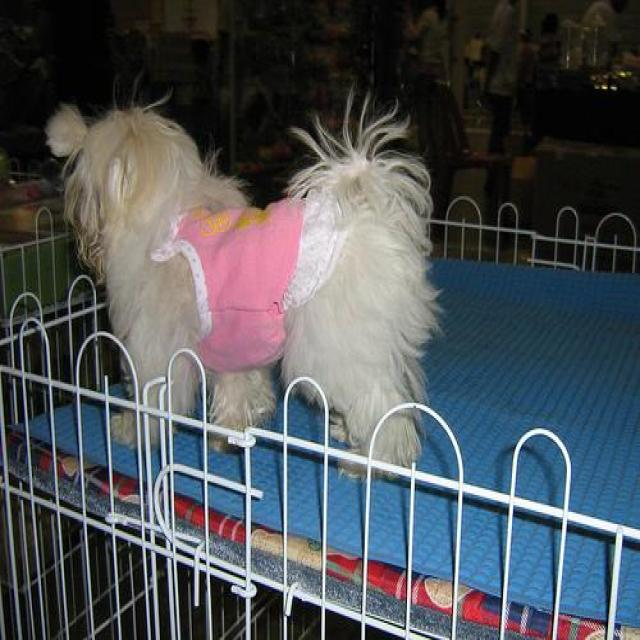maltese_dog: (54, 89, 445, 481)
